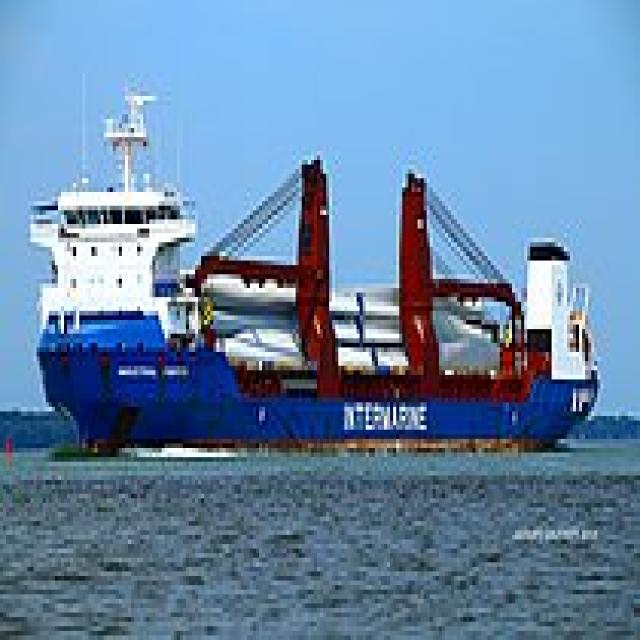Cargo: (22, 64, 600, 457)
